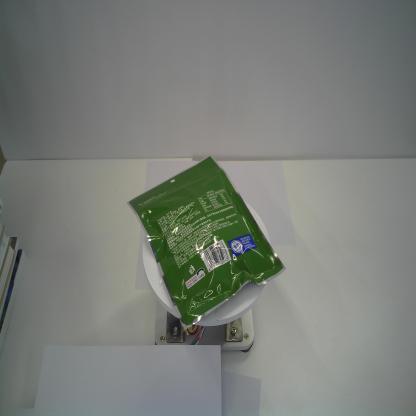Dried Fruit: (126, 153, 288, 333)
